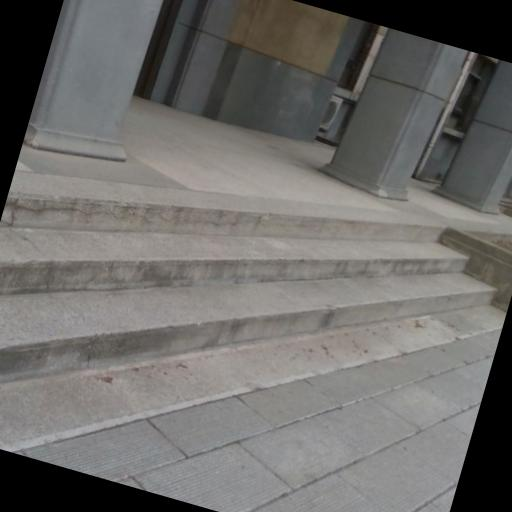stairs: (0, 172, 492, 378)
